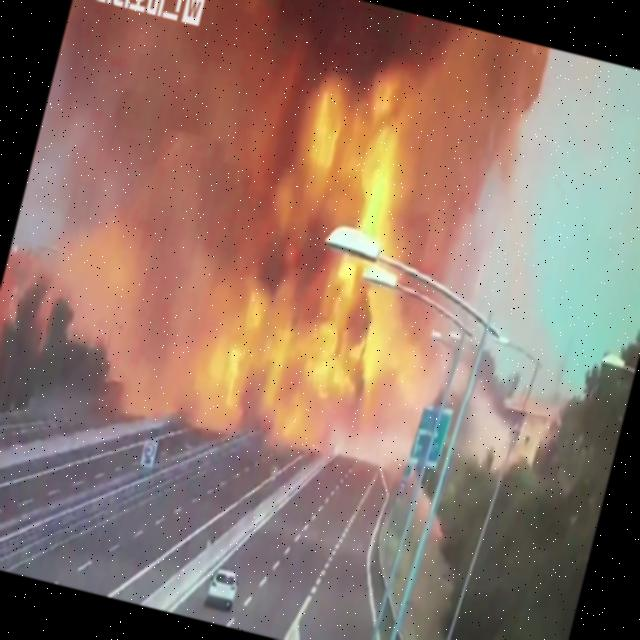explosion: (0, 0, 587, 540)
